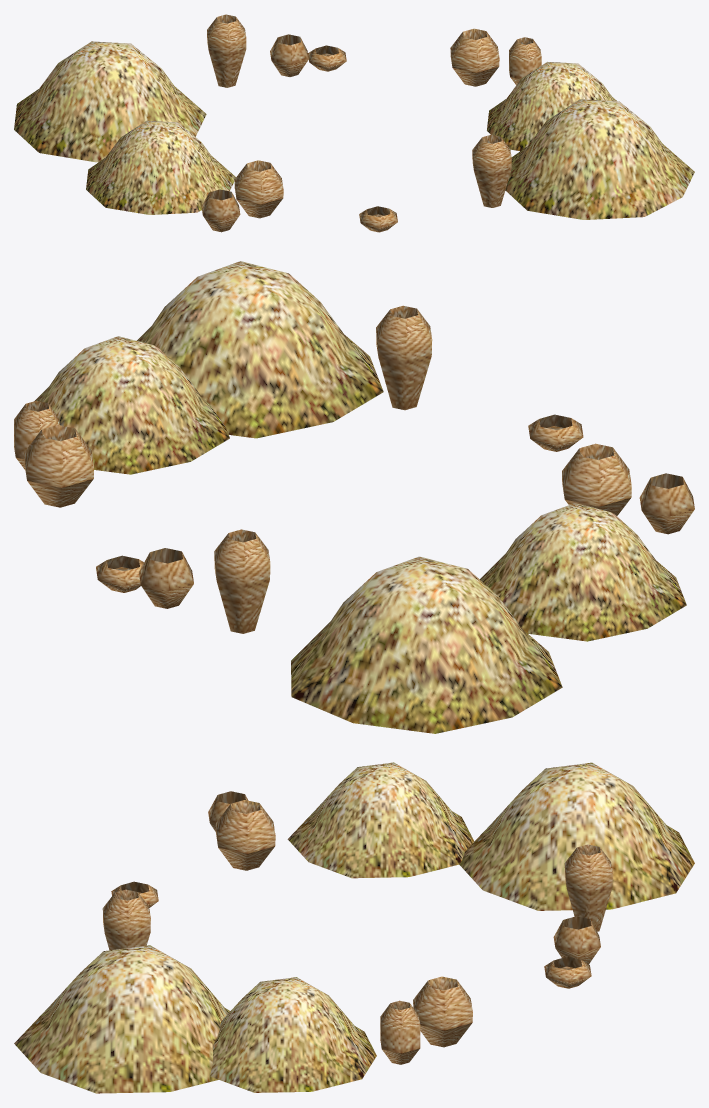
Rendered from celt_sb_prop_1.dae.
3 renders of one model, top to bottom at view 1: azimuth 30°, elevation 25°; view 2: azimuth 150°, elevation 25°; view 3: azimuth 270°, elevation 25°, orthographic. The views are drawn at different scales.
Visible parts, largest first — view 1: special_prop-Pivot; view 2: special_prop-Pivot; view 3: special_prop-Pivot.
Boxes of the visible parts, <box> form: special_prop-Pivot: <box>14,14,694,232</box>; special_prop-Pivot: <box>14,261,694,733</box>; special_prop-Pivot: <box>14,762,694,1093</box>.
Size of the model in its own units: 16.34 by 16.12 by 2.45.
